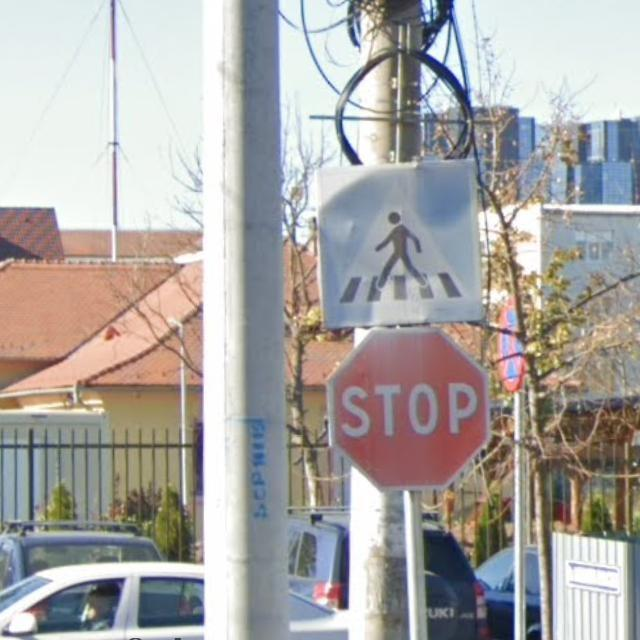info_crosswalk: (313, 161, 488, 326)
prio_stop: (326, 325, 491, 490)
